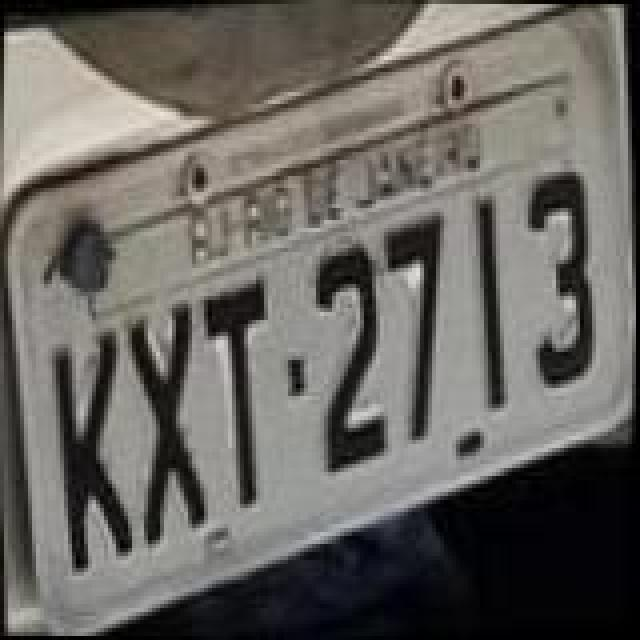1: (466, 184, 518, 416)
2: (310, 242, 402, 478)
3: (516, 168, 604, 392)
7: (378, 214, 462, 446)
K: (46, 328, 146, 576)
T: (196, 272, 288, 508)
X: (120, 296, 220, 548)
